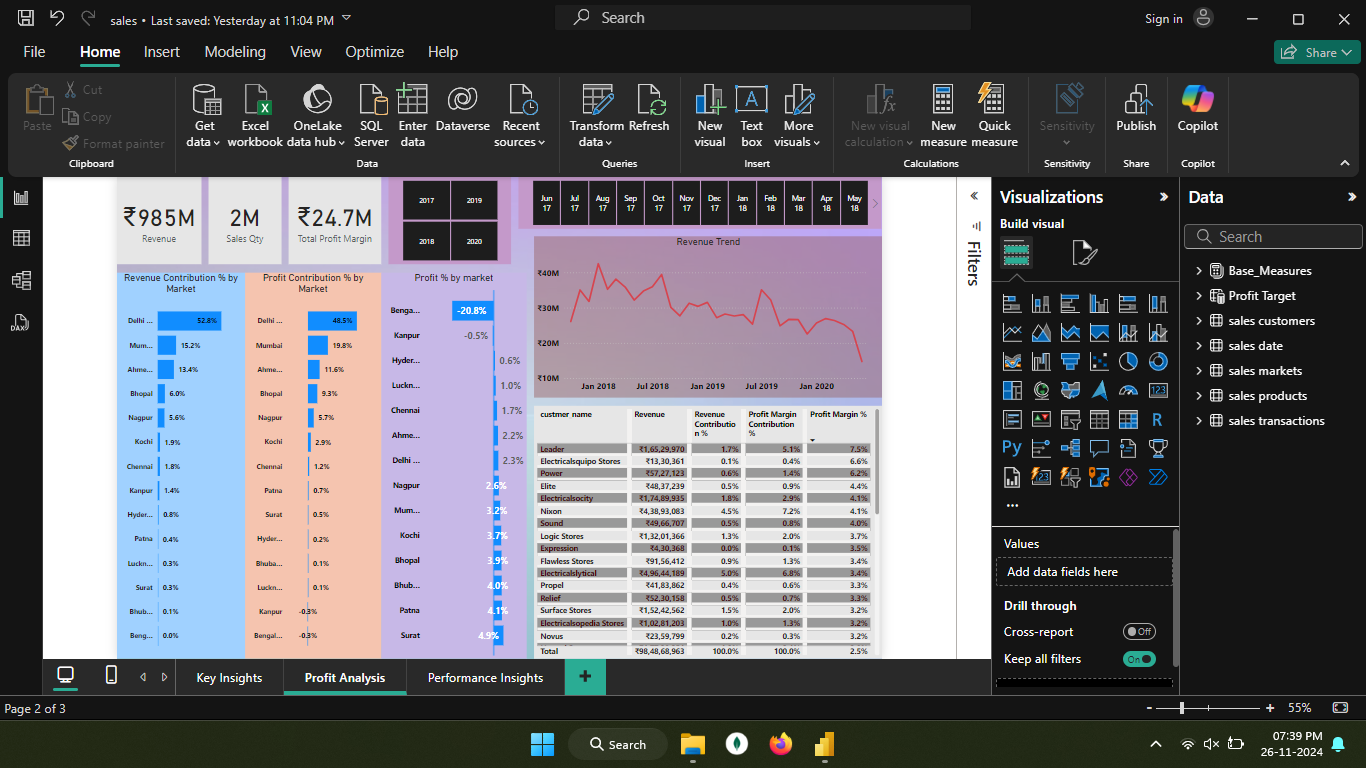

The dashboard page shown, as its layout file describes it:
{"tool":"powerbi","page":{"name":"Profit Analysis","canvas":[1350,850],"ordinal":1},"visuals":[{"type":"card","fields":{"Values":["BaseMeasures (2).Revenue"]},"box":[0,0,148.6,154.1],"z":0},{"type":"card","fields":{"Values":["BaseMeasures (2).Sales Qty"]},"box":[161.4,0,128.4,154.1],"z":1000},{"type":"barChart","title":"Profit % by market","fields":{"Y":["BaseMeasures (2).Profit Margin %"],"Category":["sales markets.markets_name"]},"box":[466,168.8,256.8,680.6],"z":2000},{"type":"barChart","title":"Profit Contribution % by Market","fields":{"Y":["BaseMeasures (2).Profit Margin Contribution %"],"Category":["sales markets.markets_name"]},"box":[225.7,168.8,240.3,680.6],"z":3000},{"type":"slicer","fields":{"Values":["sales date.year"]},"box":[478.8,0,216.5,154.1],"z":4000},{"type":"slicer","fields":{"Values":["sales date.cy_date"]},"box":[708.1,0,640.3,91.7],"z":5000},{"type":"tableEx","title":"Top 5 Customers","fields":{"Values":["sales customers.custmer_name","BaseMeasures (2).Revenue","BaseMeasures (2).Revenue Contribution %","BaseMeasures (2).Profit Margin Contribution %","BaseMeasures (2).Profit Margin %"]},"box":[735.7,403.6,614.6,445.8],"z":6000},{"type":"lineChart","title":"Revenue Trend","fields":{"Y":["BaseMeasures (2).Revenue"],"Category":["sales date.cy_date"]},"box":[735.7,104.6,614.6,284.4],"z":7000},{"type":"card","fields":{"Values":["BaseMeasures (2).Total Profit Margin"]},"box":[302.7,0,163.3,154.1],"z":8000},{"type":"barChart","title":"Revenue Contribution % by Market","fields":{"Y":["BaseMeasures (2).Revenue Contribution %"],"Category":["sales markets.markets_name"]},"box":[0,168.8,225.7,680.6],"z":9000}]}

Visuals, with their boxes on the page's 1350x850 design canvas (x1, y1, x2, y2). These are canvas units, not pixel positions in the 1366x768 screenshot, which may show the page scaled, cropped or inside an application window:
card - BaseMeasures (2).Revenue: detection(0, 0, 149, 154)
card - BaseMeasures (2).Sales Qty: detection(161, 0, 290, 154)
"Profit % by market" barChart: detection(466, 169, 723, 849)
"Profit Contribution % by Market" barChart: detection(226, 169, 466, 849)
slicer - sales date.year: detection(479, 0, 695, 154)
slicer - sales date.cy_date: detection(708, 0, 1348, 92)
"Top 5 Customers" tableEx: detection(736, 404, 1350, 849)
"Revenue Trend" lineChart: detection(736, 105, 1350, 389)
card - BaseMeasures (2).Total Profit Margin: detection(303, 0, 466, 154)
"Revenue Contribution % by Market" barChart: detection(0, 169, 226, 849)
